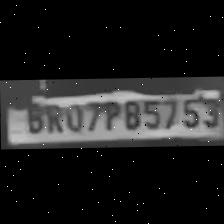0: (60, 99, 86, 130)
3: (198, 92, 220, 125)
5: (140, 94, 162, 128), (178, 94, 200, 128)
7: (158, 94, 180, 128)
8: (118, 95, 140, 128)
B: (22, 100, 44, 132)
P: (100, 94, 118, 130)
R: (42, 99, 64, 131)
